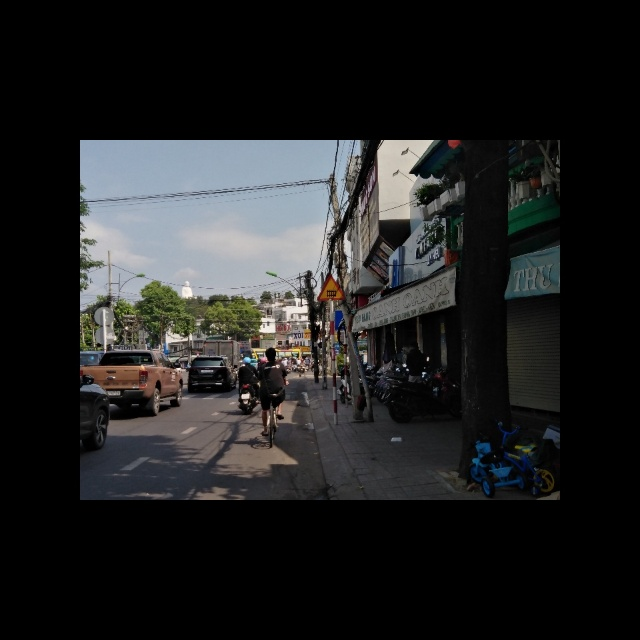Giao nhau với đường sắt có rào chắn: (317, 274, 347, 301)
